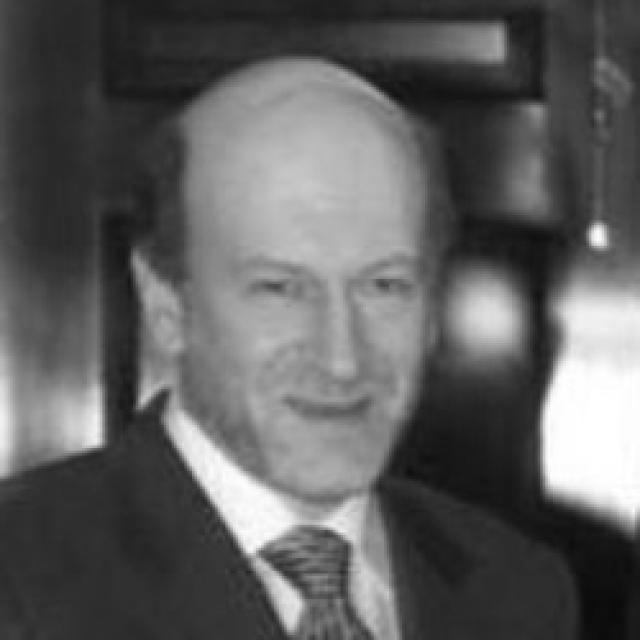real: (190, 114, 428, 492), (244, 258, 422, 316)
